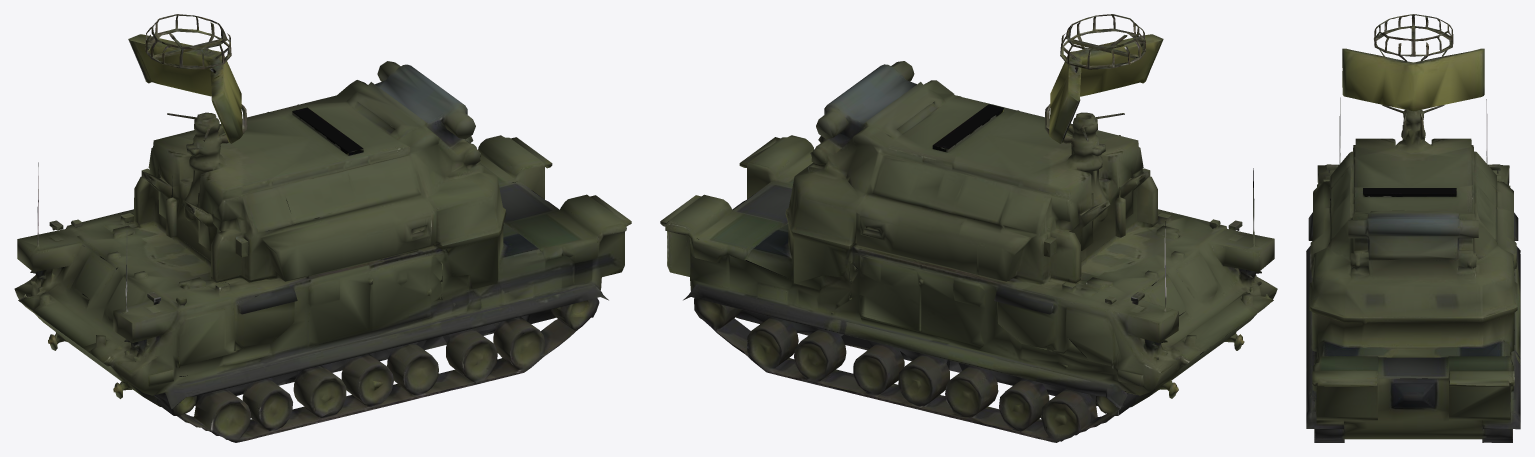
File: tor.glb
The picture shows the model from 3 angles, left to right: view 1: azimuth 30°, elevation 25°; view 2: azimuth 150°, elevation 25°; view 3: azimuth 270°, elevation 25°; orthographic projection. The views are drawn at different scales.
Visible parts, largest first — view 1: g_tor_hull, g_tor_turret; view 2: g_tor_hull, g_tor_turret; view 3: g_tor_turret, g_tor_hull.
Boxes of the visible parts, x1,y1,x2,y2 form: g_tor_hull: (14,40,631,442); g_tor_turret: (121,14,505,287); g_tor_hull: (660,40,1277,442); g_tor_turret: (786,14,1170,287); g_tor_turret: (1309,14,1517,318); g_tor_hull: (1306,16,1520,442).
Size of the model in its own units: 7.5 by 5.1 by 3.26.
2 materials, 2 textured.
